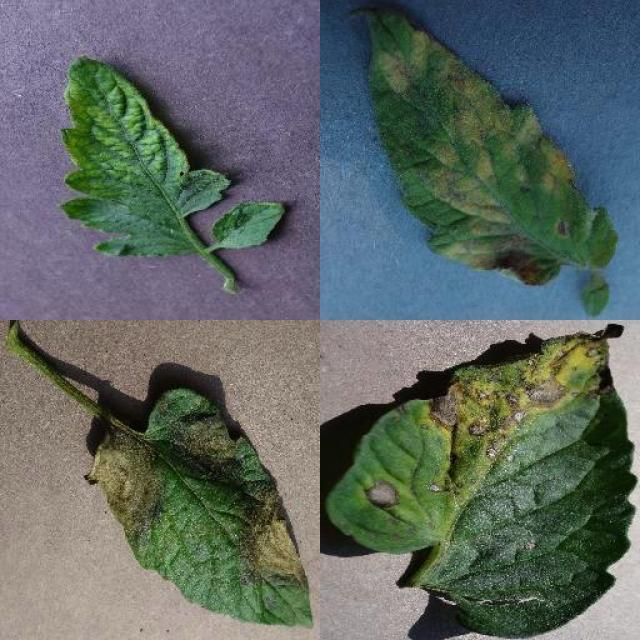Early Blight: (328, 322, 638, 640)
Late Blight: (90, 388, 318, 632)
